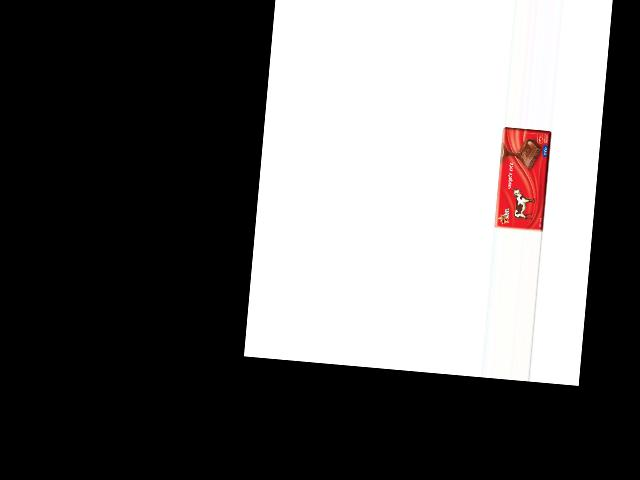chocolate: (494, 126, 551, 232)
